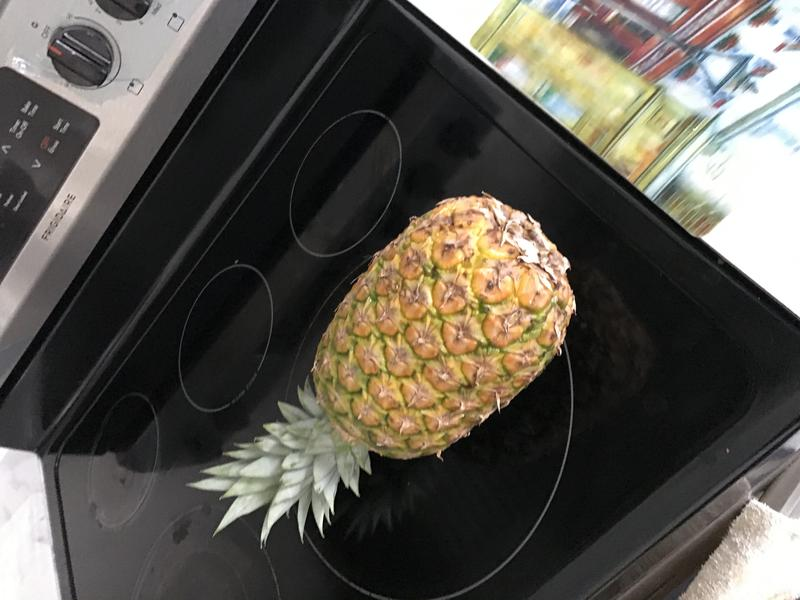pineapple: (184, 174, 598, 552)
